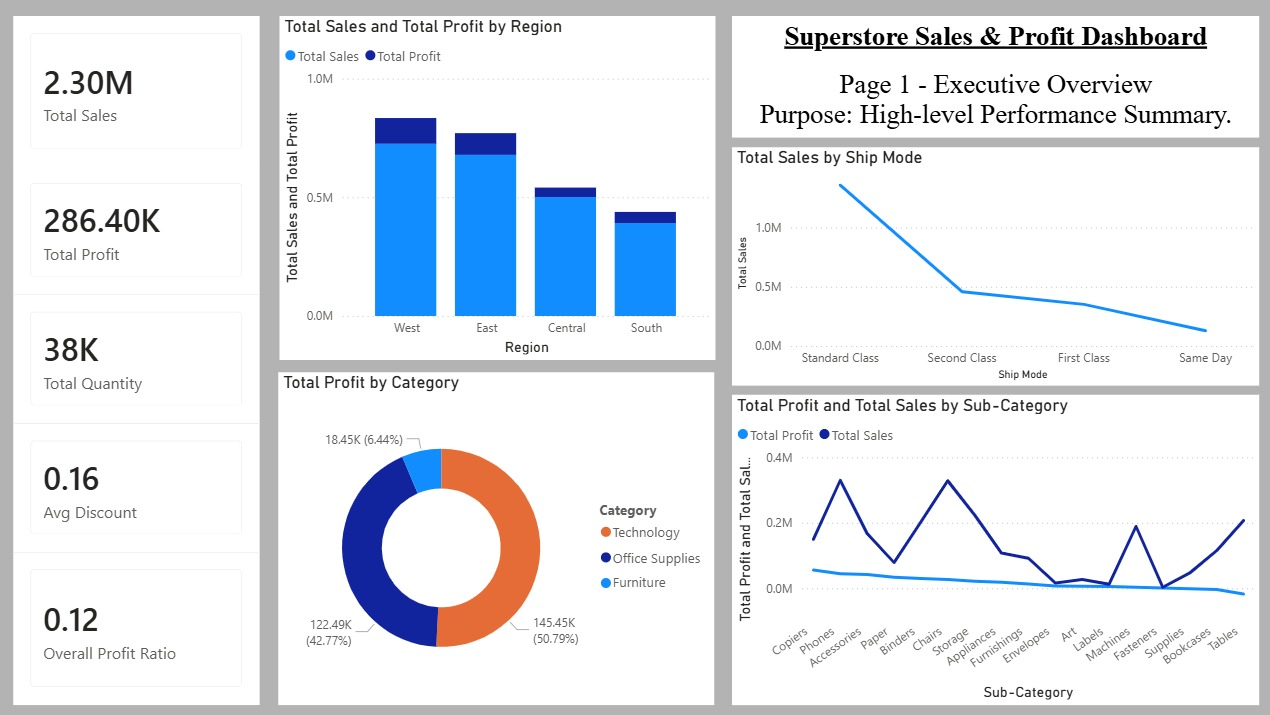

What the dashboard file says about the page in this screenshot:
{"tool":"powerbi","page":{"name":"Page 1","canvas":[1280,720],"ordinal":0},"visuals":[{"type":"cardVisual","fields":{"Data":["SampleSuperstore.Total Sales"]},"box":[16.2,20,246.2,150],"z":0},{"type":"cardVisual","fields":{"Data":["SampleSuperstore.Total Profit"]},"box":[16.8,169.7,246.2,128.8],"z":1000},{"type":"cardVisual","fields":{"Data":["SampleSuperstore.Avg Discount"]},"box":[16.8,427.2,246.2,128.8],"z":2000},{"type":"cardVisual","fields":{"Data":["SampleSuperstore.Overall Profit Ratio"]},"box":[16.2,556.2,246.2,152.5],"z":3000},{"type":"cardVisual","fields":{"Data":["SampleSuperstore.Total Quantity"]},"box":[16.8,298.5,246.2,128.8],"z":4000},{"type":"columnChart","fields":{"Category":["SampleSuperstore.Region"],"Y":["SampleSuperstore.Total Sales","SampleSuperstore.Total Profit"]},"box":[282.5,20,436.2,343.8],"z":5000},{"type":"donutChart","fields":{"Category":["SampleSuperstore.Category"],"Y":["SampleSuperstore.Total Profit"]},"box":[281.2,376.2,436.2,332.5],"z":6000},{"type":"lineChart","fields":{"Y":["SampleSuperstore.Total Sales"],"Category":["SampleSuperstore.Ship Mode"]},"box":[735,151.2,527.5,238.8],"z":7000},{"type":"lineChart","fields":{"Category":["SampleSuperstore.Sub-Category"],"Y":["SampleSuperstore.Total Profit","SampleSuperstore.Total Sales"]},"box":[735,398.8,527.5,310],"z":8000},{"type":"textbox","box":[735,20,527.5,121.2],"z":9000}]}

Visuals, with their boxes in screenshot pixels (x1, y1, x2, y2), scaled from the page's 1280x720 canvas onto the 1270x715 screenshot:
cardVisual - SampleSuperstore.Total Sales: 16 20 260 169
cardVisual - SampleSuperstore.Total Profit: 17 169 261 296
cardVisual - SampleSuperstore.Avg Discount: 17 424 261 552
cardVisual - SampleSuperstore.Overall Profit Ratio: 16 552 260 704
cardVisual - SampleSuperstore.Total Quantity: 17 296 261 424
columnChart - SampleSuperstore.Region x SampleSuperstore.Total Sales: 280 20 713 361
donutChart - SampleSuperstore.Category x SampleSuperstore.Total Profit: 279 374 712 704
lineChart - SampleSuperstore.Total Sales x SampleSuperstore.Ship Mode: 729 150 1253 387
lineChart - SampleSuperstore.Sub-Category x SampleSuperstore.Total Profit: 729 396 1253 704
textbox: 729 20 1253 140
